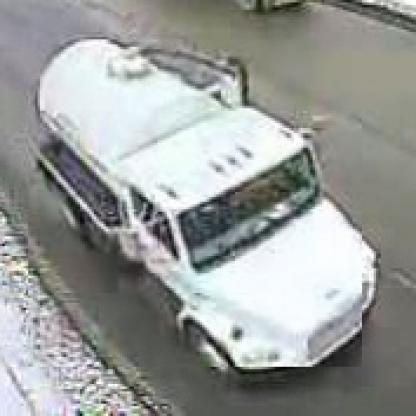truck: (29, 41, 365, 371)
